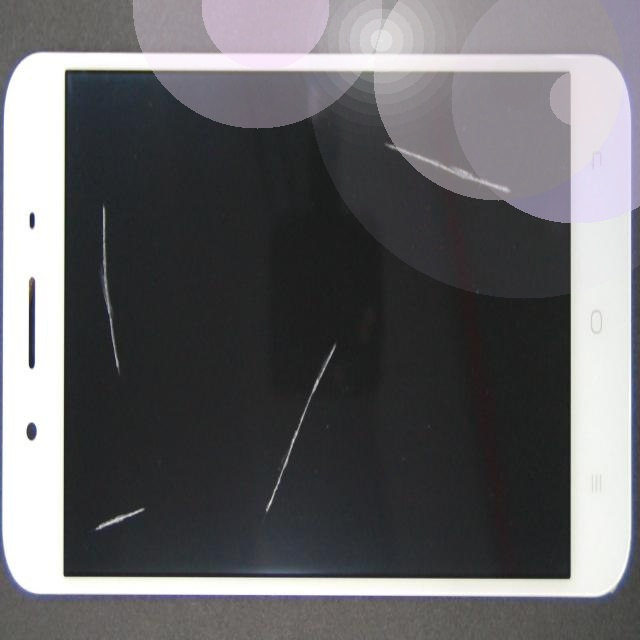scratch: (207, 56, 458, 576)
